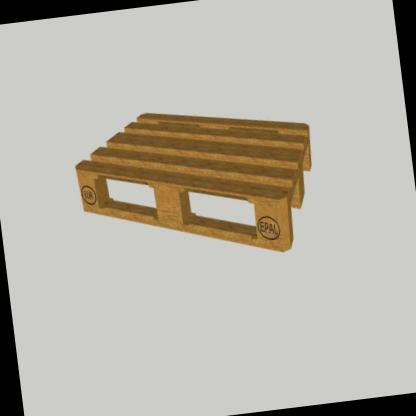BoxFace: (73, 109, 313, 253)
